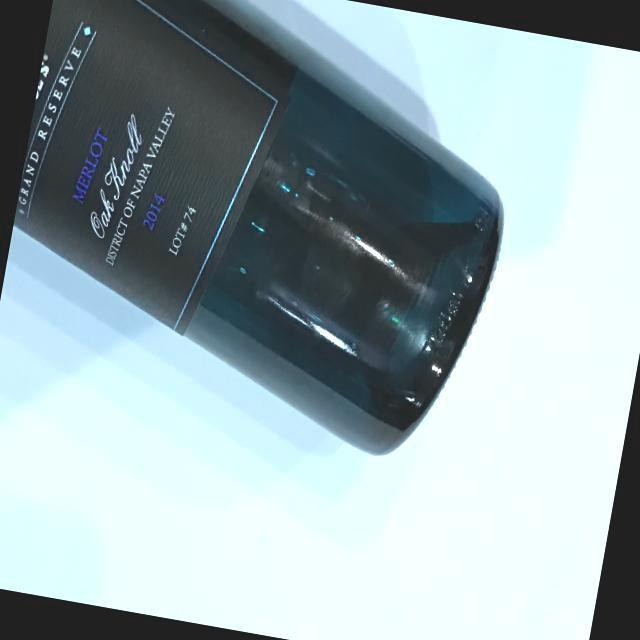glass: (0, 0, 541, 480)
